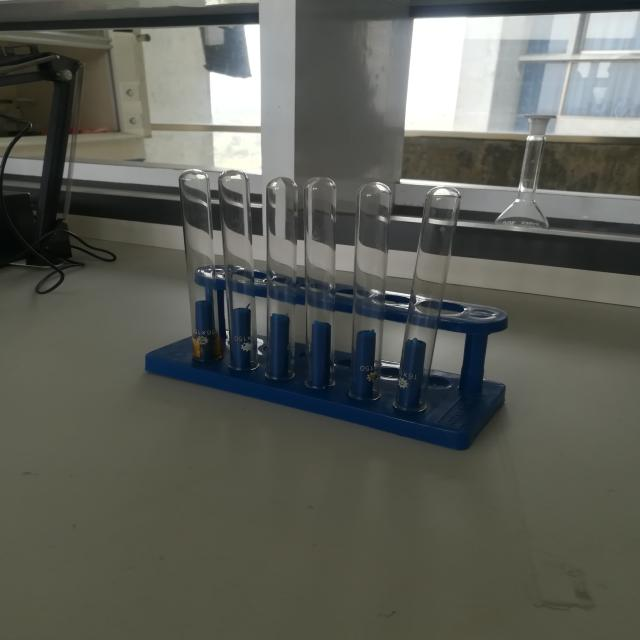Test_Tube: (158, 147, 487, 439)
